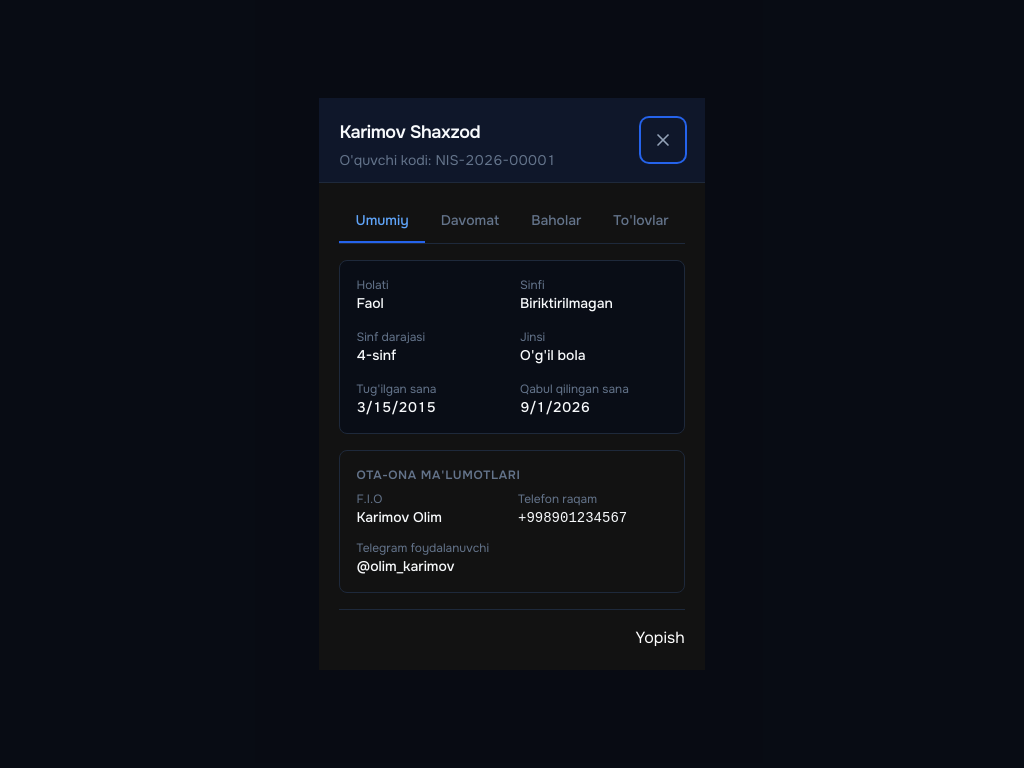
it: StudentProfileModal › should_switch_tabs_and_fetch_attendance_and_grades
# Switch to Davomat tab
Step 1. Click the tab "Davomat" → (470, 221), box [425,199,515,243]
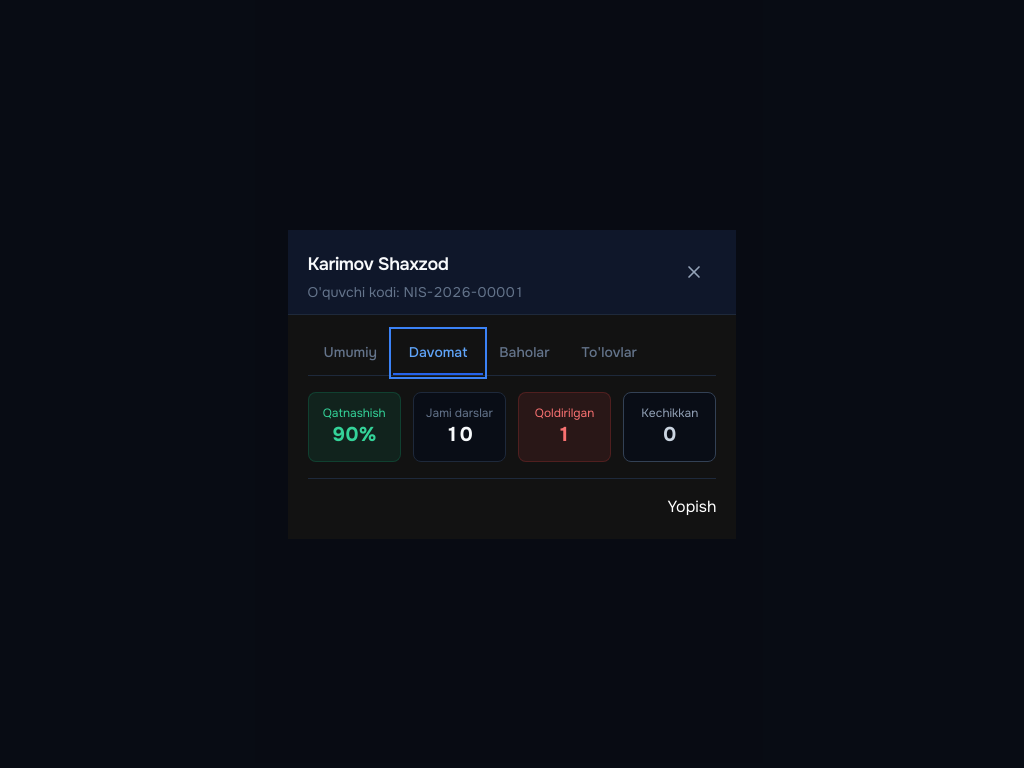
Now the text "90%" is shown, box [332,422,377,446]
Now the text "Qatnashish" is shown, box [321,404,388,420]
# Switch to Baholar tab
Step 2. Click the tab "Baholar" → (524, 352), box [483,330,566,374]
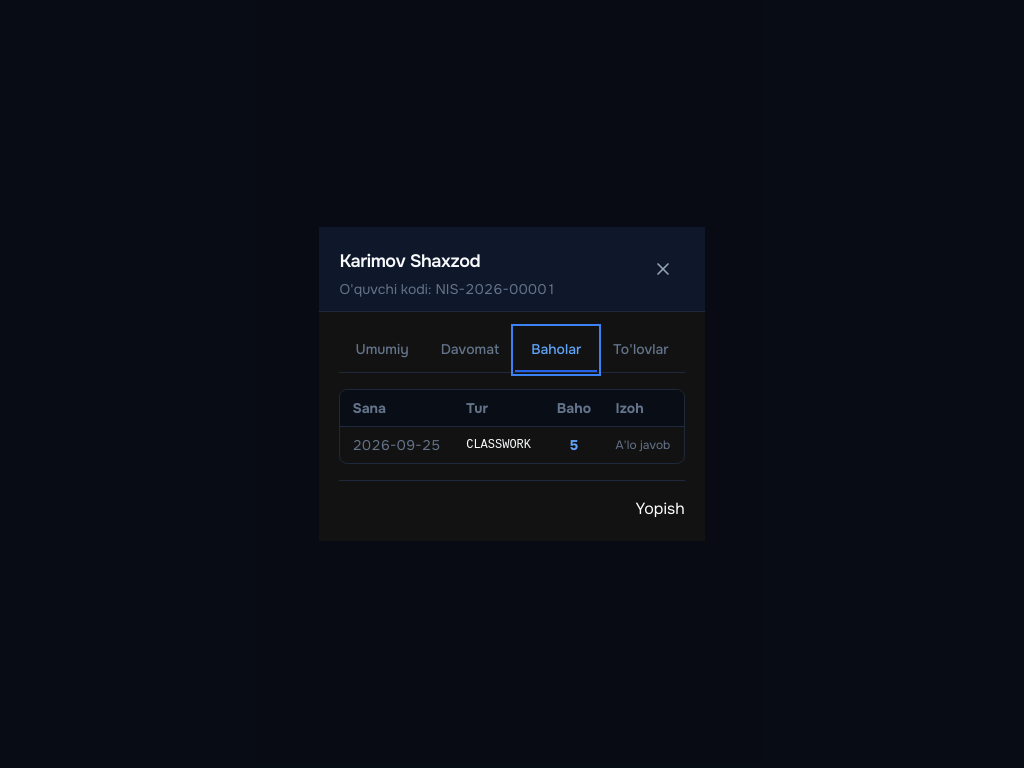
Now the text "A'lo javob" is shown, box [604,426,684,463]
